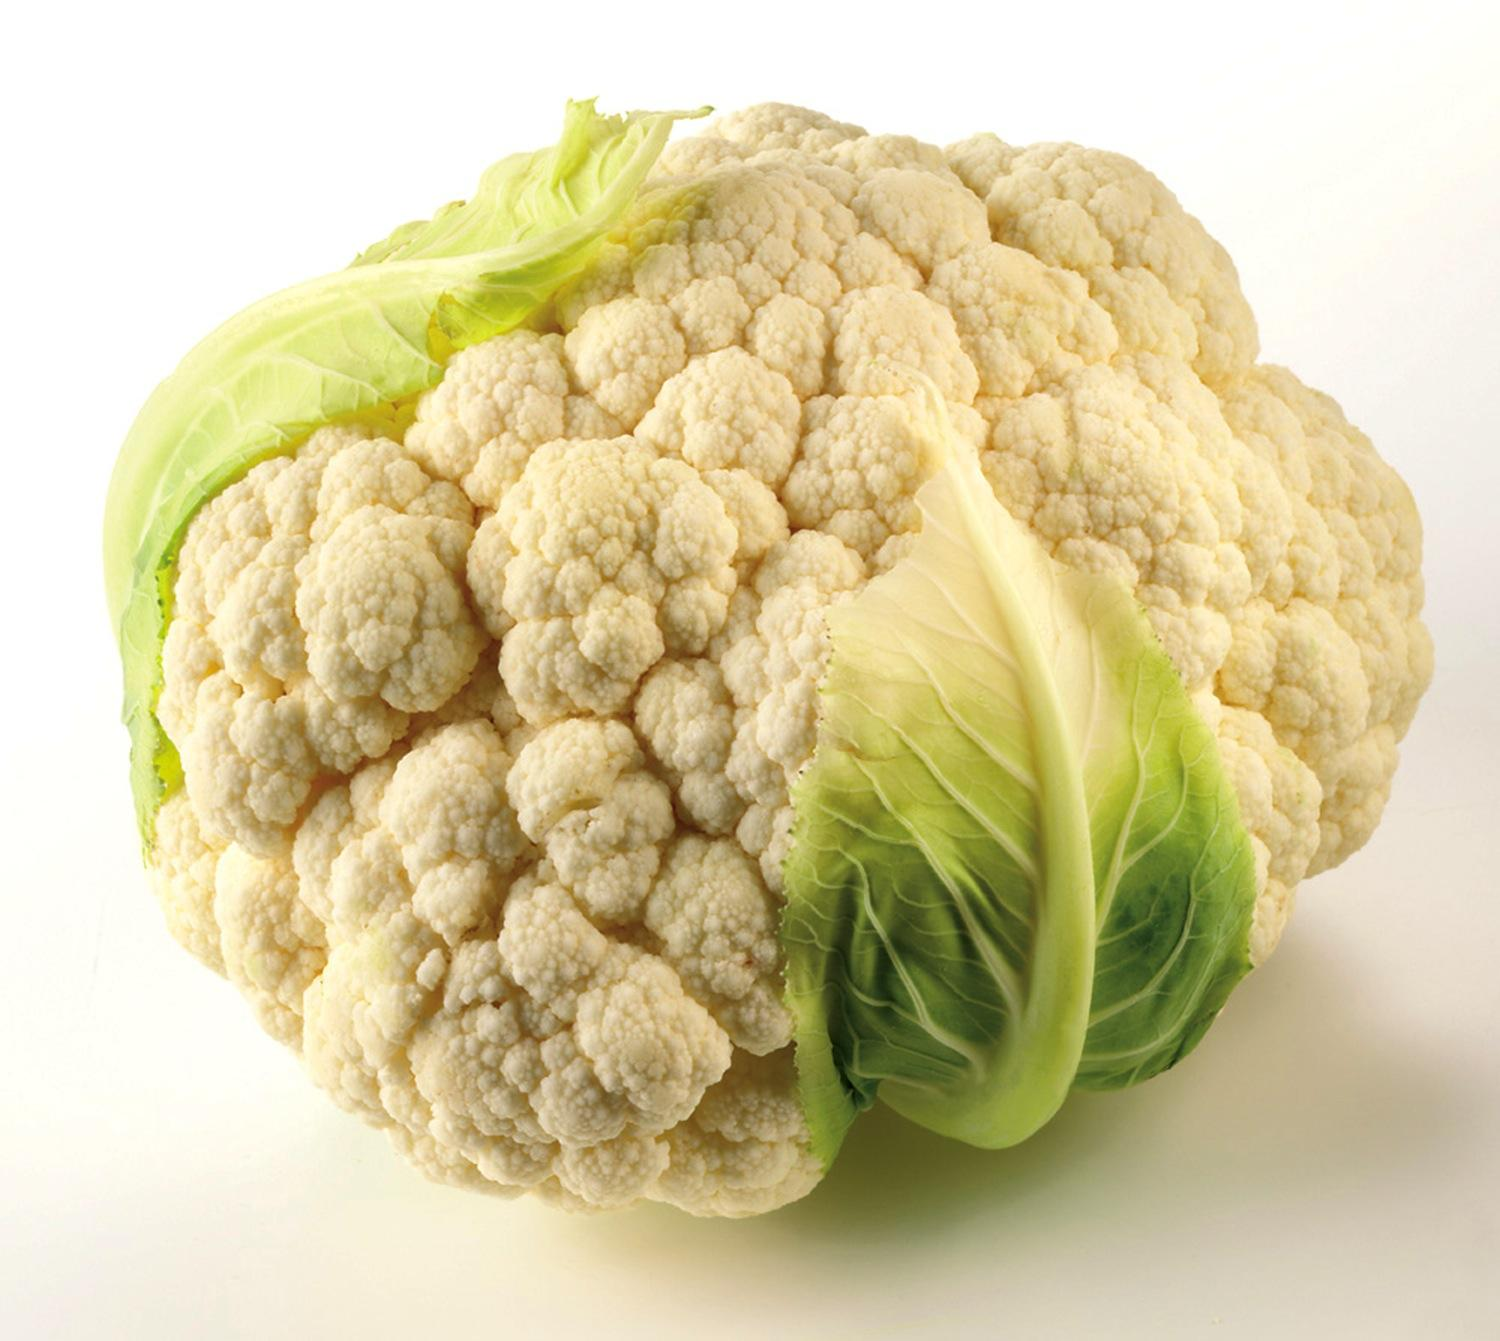cauliflower: (114, 96, 1437, 1221)
